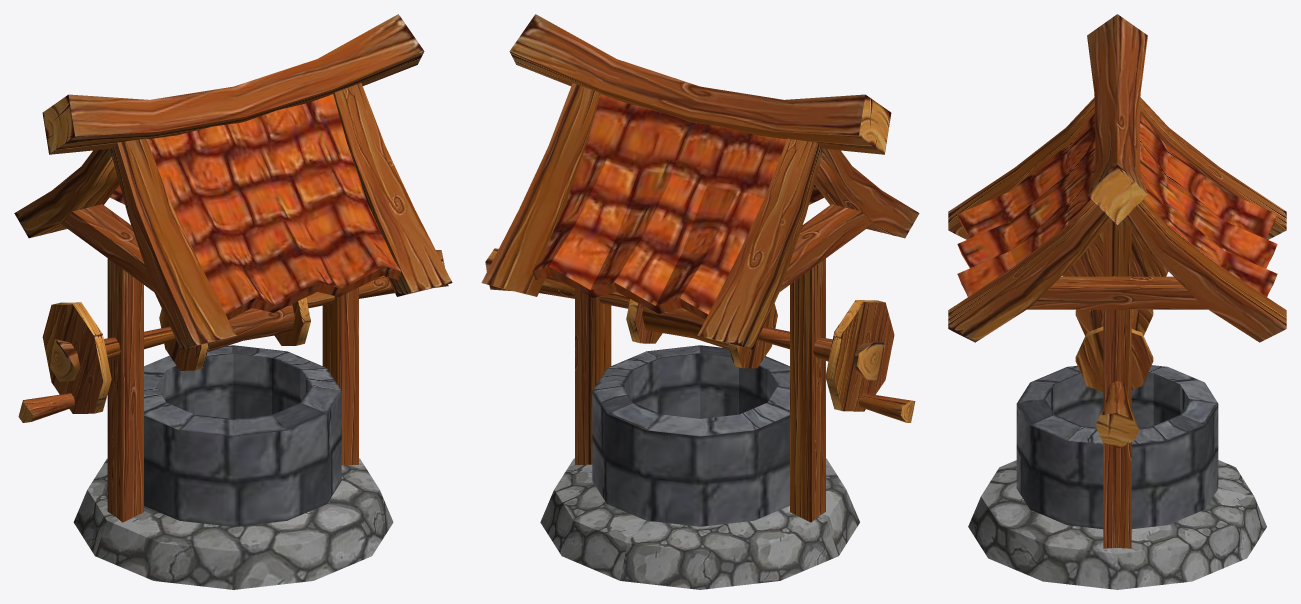
Rendered from Kolodec.fbx.
3 views of the same model, side by side, from view 1: azimuth 30°, elevation 25°; view 2: azimuth 150°, elevation 25°; view 3: azimuth 270°, elevation 25° (orthographic). The views are drawn at different scales.
Parts seen in each view (by area): view 1: Kolodec; view 2: Kolodec; view 3: Kolodec.
Part boxes in pixels (x1,y1,x2,y2): Kolodec: (14, 14, 452, 589); Kolodec: (481, 14, 919, 589); Kolodec: (948, 14, 1286, 589).
Bounding box in the file's own units: 1827 × 1957 × 1372.
Materials: 1 (1 with a texture image).
